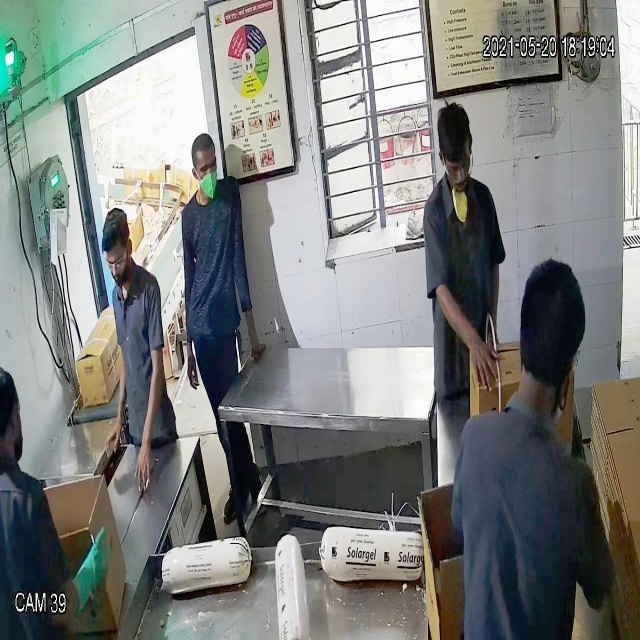Gafas: (440, 152, 474, 183), (101, 246, 130, 272)
Sin_gafas: (190, 154, 220, 180)
